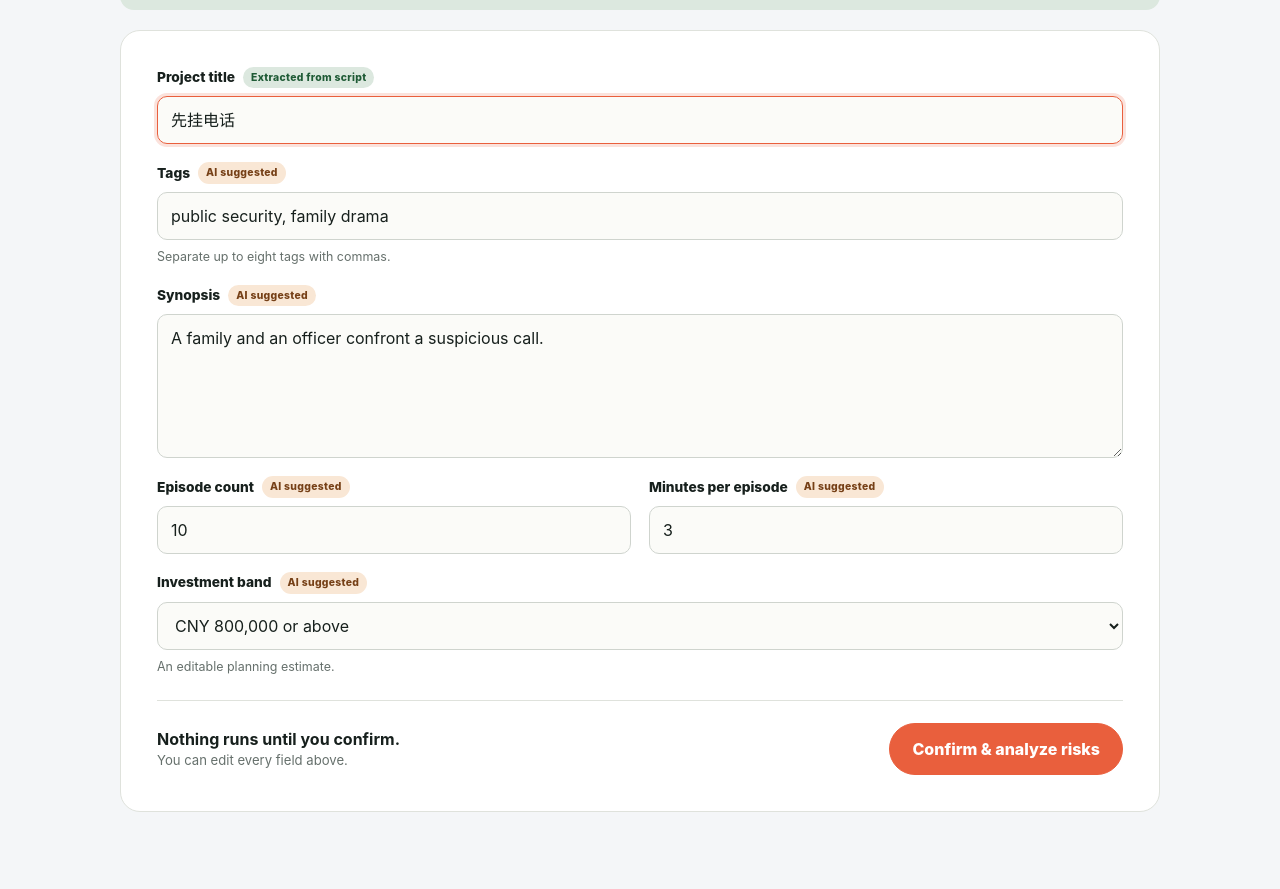
Test: upload-first review flow › clears a transient confirm fetch error after recovery polling completes
(page scrolled)
Click the button "Confirm & analyze risks".
click(1006, 749)  # box x1=889 y1=723 x2=1123 y2=775
(page scrolled)
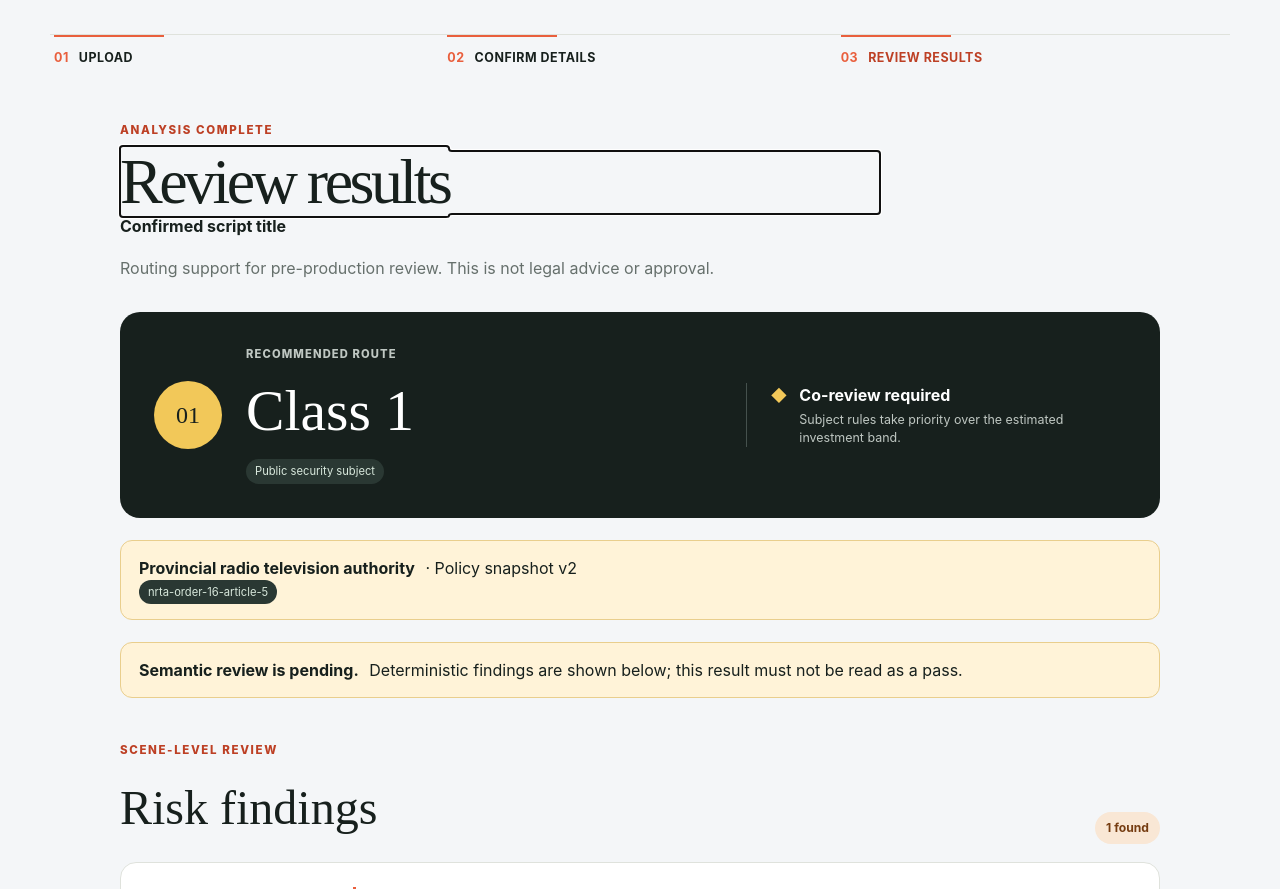
Expected: the heading "Review results" is shown, x1=120 y1=146 x2=449 y2=217
